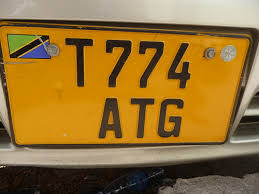T: (60, 32, 100, 93), (126, 94, 157, 141)
